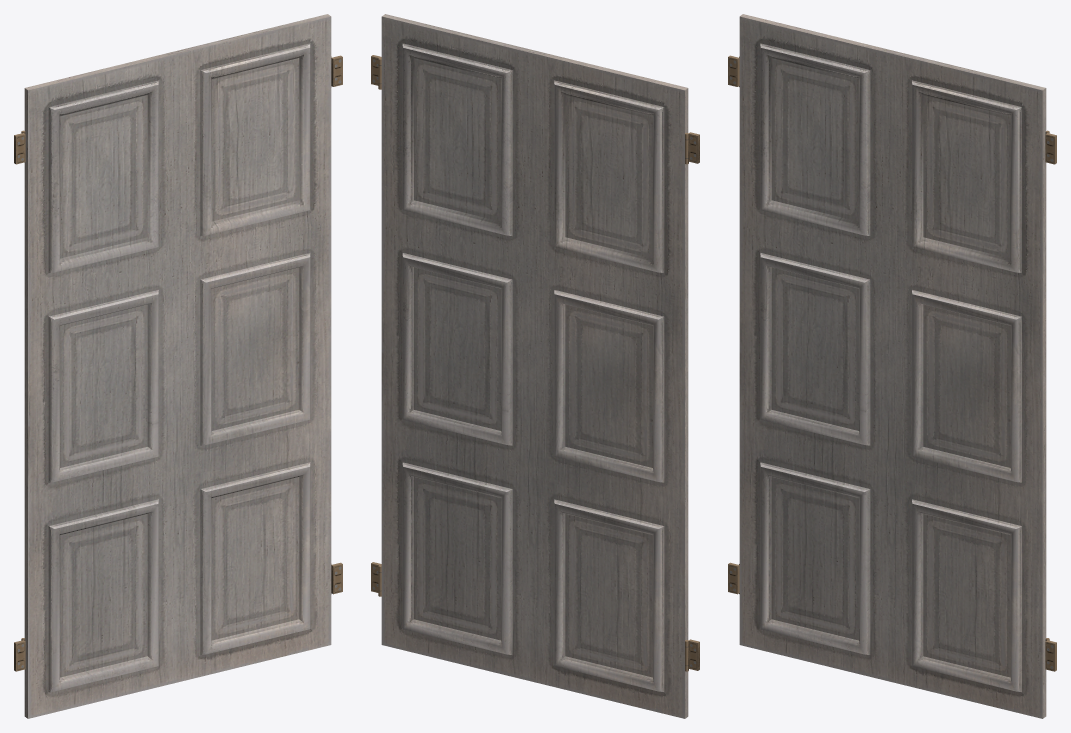
The model's file is House_03_Shutter.fbx.
3 views of the same model, side by side, from view 1: azimuth 30°, elevation 25°; view 2: azimuth 150°, elevation 25°; view 3: azimuth 330°, elevation 25° (orthographic).
Parts seen in each view (by area): view 1: House_03_Shutter_LOD0; view 2: House_03_Shutter_LOD0; view 3: House_03_Shutter_LOD0.
Boxes of the visible parts, x1=… form: House_03_Shutter_LOD0: x1=14, y1=14, x2=342, y2=718; House_03_Shutter_LOD0: x1=371, y1=14, x2=699, y2=718; House_03_Shutter_LOD0: x1=728, y1=14, x2=1056, y2=718.
Size of what is drawn, in the model's own units: 112 by 206 by 5.13.
